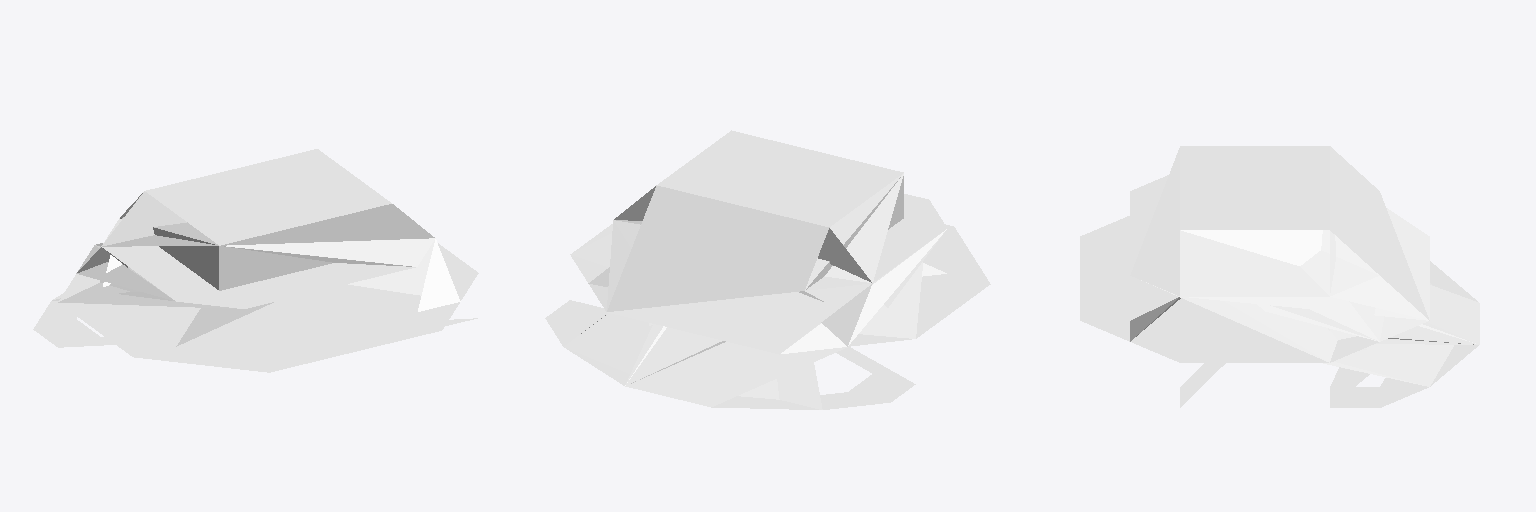
The model's file is chr_gumi.obj.
3 renders of one model, left to right at view 1: azimuth 30°, elevation 25°; view 2: azimuth 150°, elevation 25°; view 3: azimuth 270°, elevation 25°, orthographic.
Size of the model in its own units: 8 by 3 by 8.